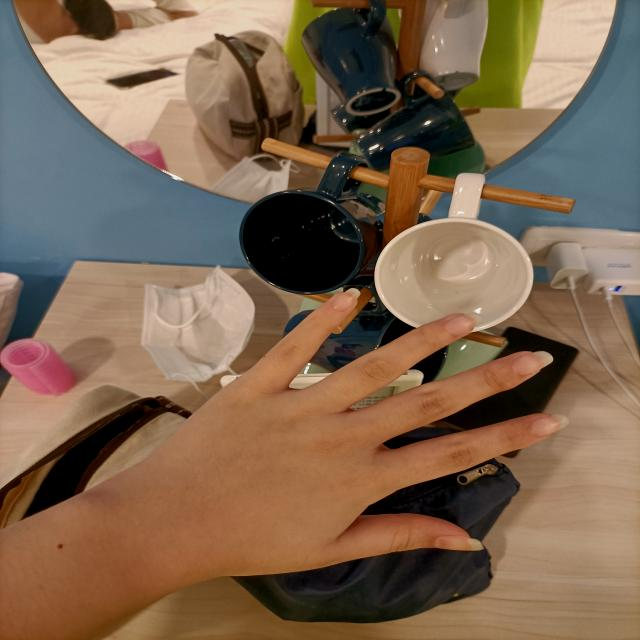no_glove: (93, 277, 580, 633)
